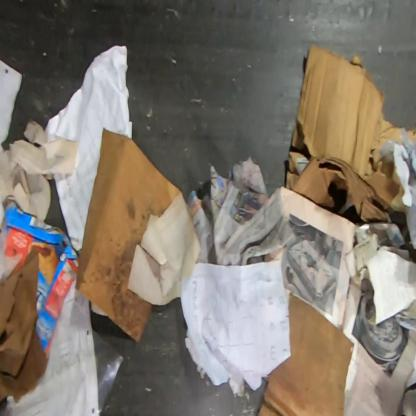cardboard: (75, 127, 183, 344), (285, 42, 407, 224), (235, 293, 356, 415), (3, 199, 78, 359), (405, 124, 416, 143)
soft_plastic: (376, 127, 415, 250), (90, 326, 126, 415)
